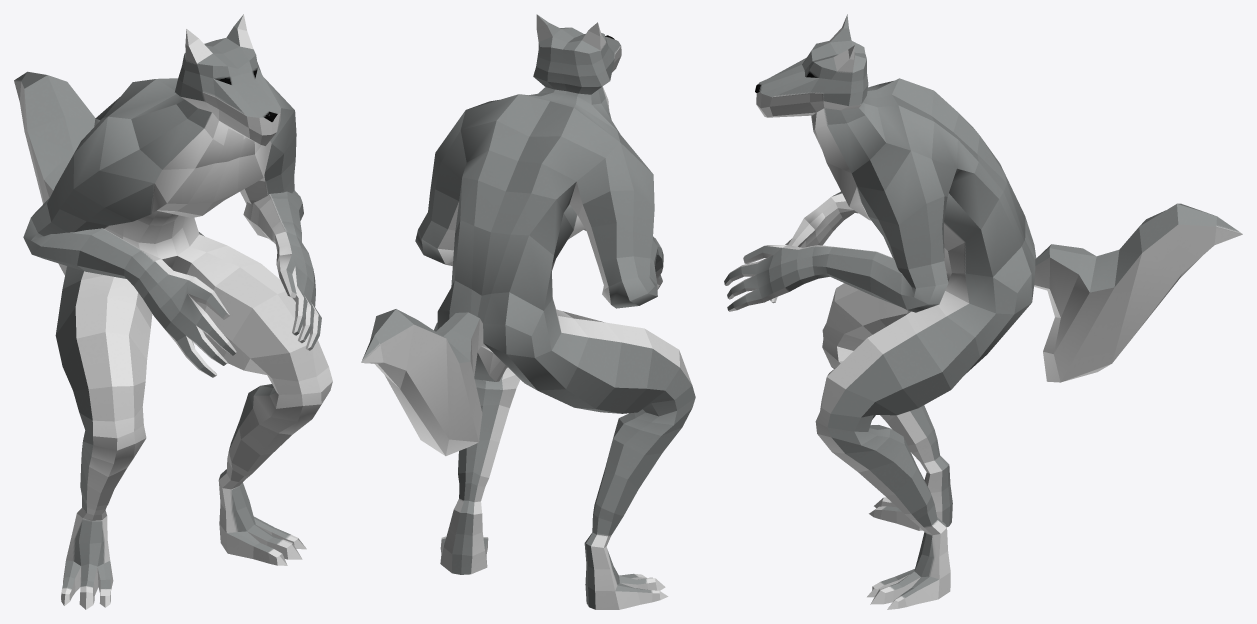
File: WolfIdle_(10).obj
3 renders of one model, left to right at view 1: azimuth 30°, elevation 25°; view 2: azimuth 150°, elevation 25°; view 3: azimuth 270°, elevation 25°, orthographic. The views are drawn at different scales.
Parts seen in each view (by area): view 1: Box001; view 2: Box001; view 3: Box001.
Part boxes in pixels (x1,y1,x2,y2): Box001: (14,14,332,609); Box001: (361,14,695,609); Box001: (724,14,1242,609).
Bounding box in the file's own units: 62.42 × 131 × 116.
